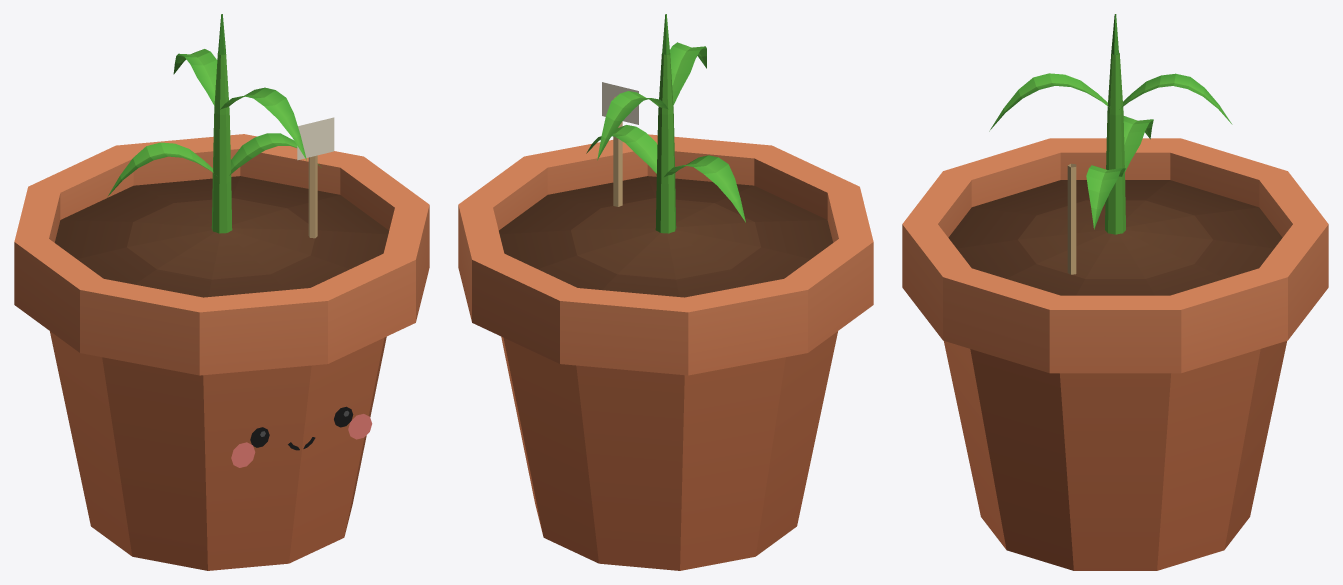
The model's file is cute_corn_stage2.glb.
3 renders of one model, left to right at view 1: azimuth 30°, elevation 25°; view 2: azimuth 150°, elevation 25°; view 3: azimuth 270°, elevation 25°, orthographic.
Parts seen in each view (by area): view 1: CornPlant; view 2: CornPlant; view 3: CornPlant.
Part boxes in pixels (x1=…): CornPlant: x1=14, y1=14, x2=429, y2=570; CornPlant: x1=458, y1=14, x2=873, y2=570; CornPlant: x1=902, y1=14, x2=1328, y2=570.
Size of the model in its own units: 0.3766 by 0.515 by 0.396.
